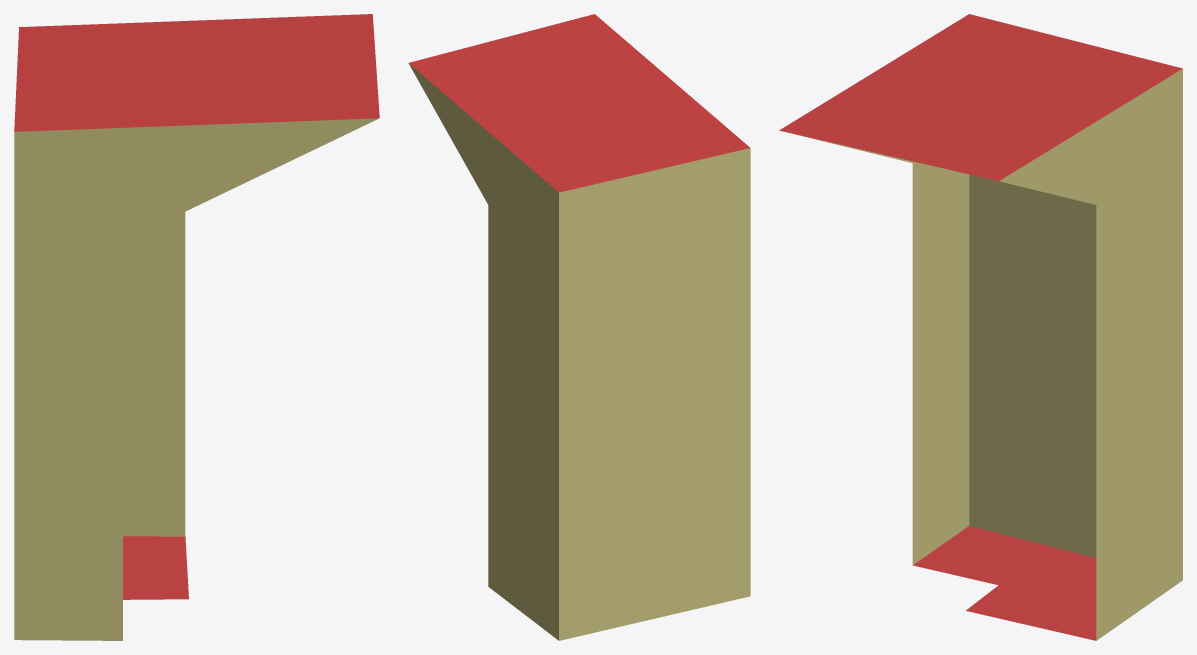
3 renders of one model, left to right at view 1: azimuth 30°, elevation 25°; view 2: azimuth 150°, elevation 25°; view 3: azimuth 270°, elevation 25°, orthographic. The views are drawn at different scales.
Visible parts, largest first — view 1: group_4, group_3, group_5; view 2: group_4, group_3; view 3: group_4, group_3, group_5.
Part boxes in pixels (left/top/right/bottom): group_4: left=14, top=118, right=378, bottom=640; group_3: left=14, top=14, right=379, bottom=131; group_5: left=123, top=536, right=188, bottom=599; group_4: left=408, top=63, right=750, bottom=640; group_3: left=409, top=14, right=749, bottom=192; group_4: left=787, top=69, right=1182, bottom=640; group_3: left=779, top=14, right=1182, bottom=181; group_5: left=913, top=526, right=1096, bottom=640.
Bounding box in the file's own units: 8.13 × 7.56 × 10.92.
